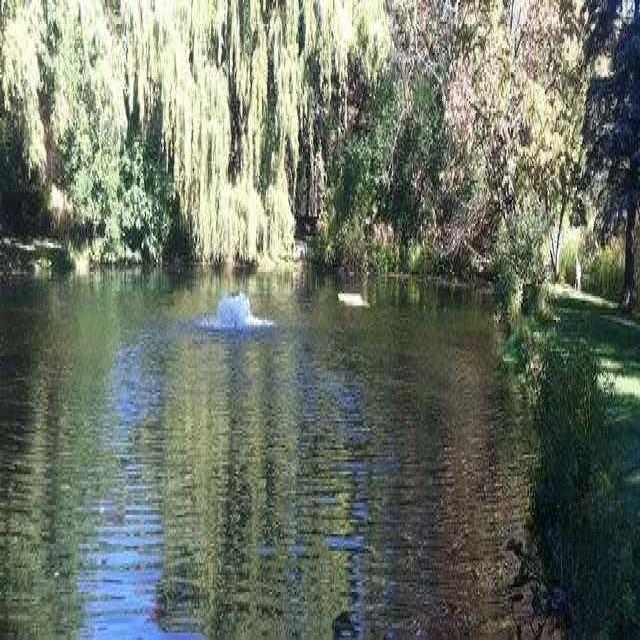Ponds: (5, 253, 544, 637)
